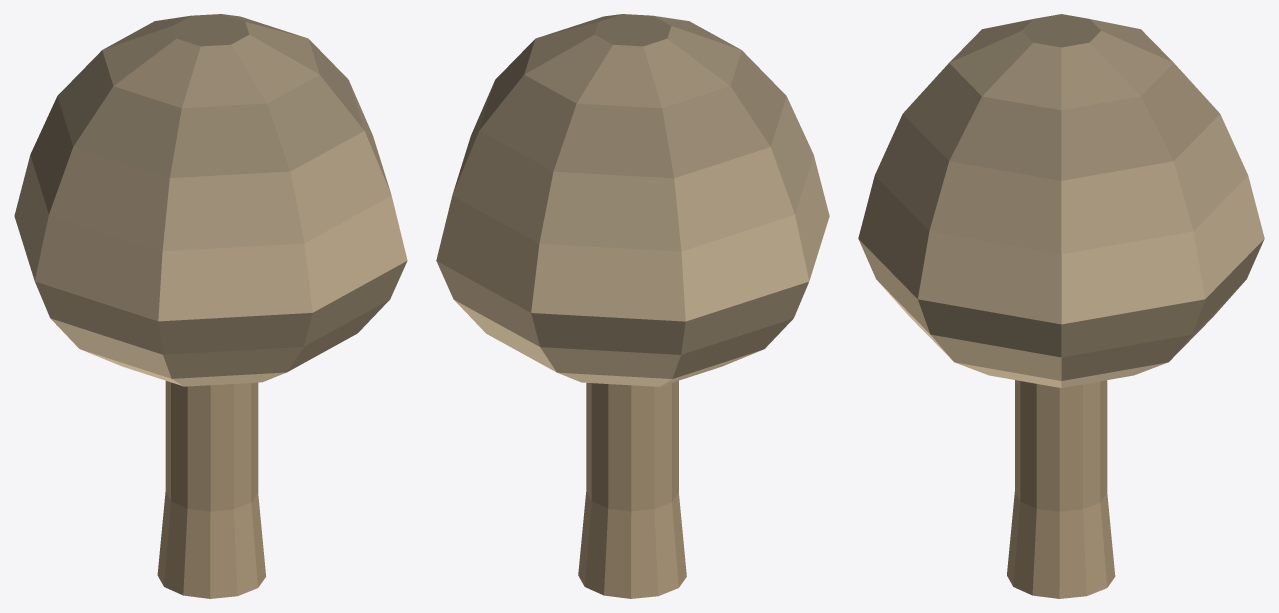
The model's file is Macrolepiota_little.fbx.
The picture shows the model from 3 angles, left to right: view 1: azimuth 30°, elevation 25°; view 2: azimuth 150°, elevation 25°; view 3: azimuth 270°, elevation 25°; orthographic projection.
Parts seen in each view (by area): view 1: Cylinder.002; view 2: Cylinder.002; view 3: Cylinder.002.
Part boxes in pixels (<box>): Cylinder.002: <box>14,14,407,598</box>; Cylinder.002: <box>436,14,829,598</box>; Cylinder.002: <box>858,14,1264,598</box>.
Size of the model in its own units: 76.75 by 114 by 76.75.
